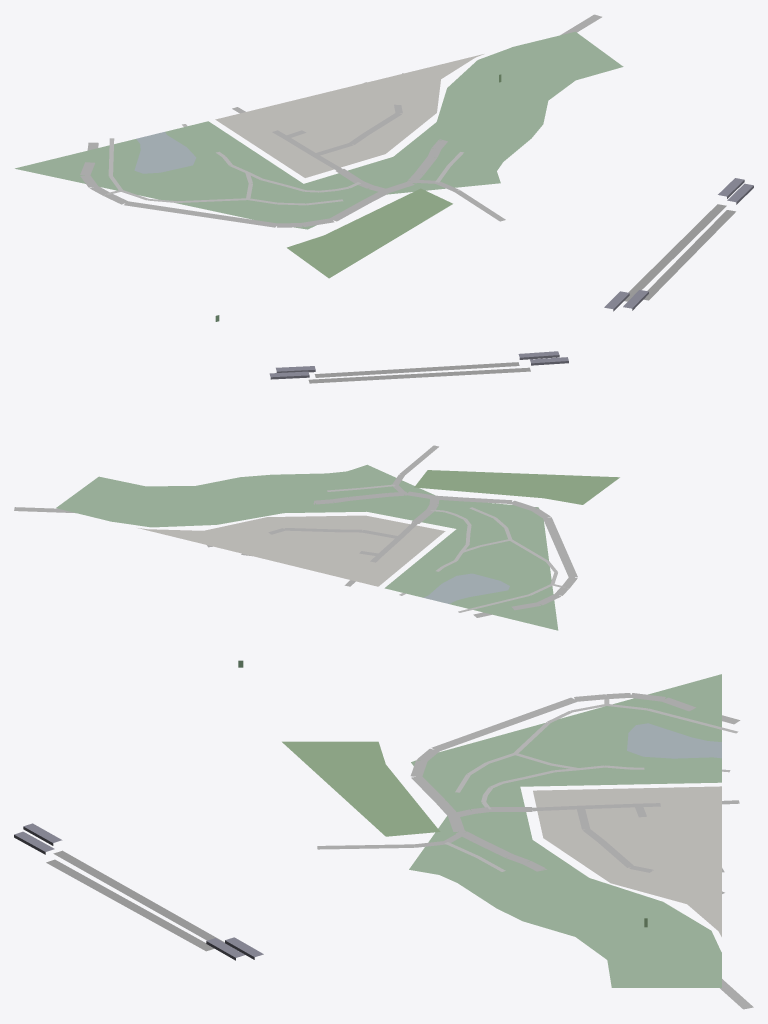
The picture shows the model from 3 angles, top to bottom: view 1: azimuth 30°, elevation 25°; view 2: azimuth 150°, elevation 25°; view 3: azimuth 270°, elevation 25°; orthographic projection. The views are drawn at different scales.
Size of the model in its own units: 475 by 8.75 by 438.
